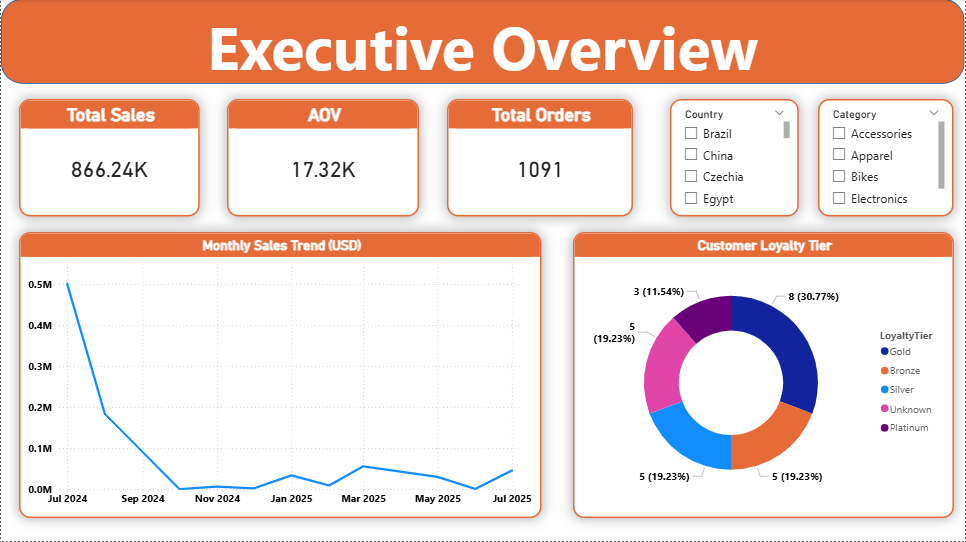

What the dashboard file says about the page in this screenshot:
{"tool":"powerbi","page":{"name":"DB1: Executive Overview","canvas":[1280,720],"ordinal":0},"visuals":[{"type":"card","title":"Total Sales","fields":{"Values":["Sum(FactSales.LineAmount_USD)"]},"box":[23.5,132.7,240.2,156.2],"z":0},{"type":"card","title":"AOV","fields":{"Values":["Measures Table.AOV"]},"box":[300.7,132.7,255.3,156.2],"z":1000},{"type":"card","title":"Total Orders","fields":{"Values":["CountNonNull(FactSales.OrderID)"]},"box":[593,132.7,246.9,156.2],"z":2000},{"type":"lineChart","title":"Monthly Sales Trend (USD)","fields":{"Category":["Calendar_Table.Date.Variation.Date Hierarchy.Year","Calendar_Table.Date.Variation.Date Hierarchy.Month"],"Y":["Sum(FactSales.LineAmount_USD)"]},"box":[23.5,309.1,693.8,379.6],"z":3000},{"type":"donutChart","title":"Customer Loyalty Tier","fields":{"Category":["DimCustomer.LoyaltyTier"],"Y":["CountNonNull(DimCustomer.CustomerID)"]},"box":[759.3,309.1,505.6,379.6],"z":4000},{"type":"slicer","fields":{"Values":["DimCustomer.Country"]},"box":[888.6,132.7,171.3,156.2],"z":5000},{"type":"slicer","fields":{"Values":["DimProduct.Category"]},"box":[1085,133,180,156],"z":6000},{"type":"shape","box":[0,0,1280,112.5],"z":7000}]}

Visuals, with their boxes in screenshot pixels (x1, y1, x2, y2), scaled from the page's 1280x720 canvas onto the 966x542 screenshot:
"Total Sales" card: [x1=18, y1=100, x2=199, y2=217]
"AOV" card: [x1=227, y1=100, x2=420, y2=217]
"Total Orders" card: [x1=448, y1=100, x2=634, y2=217]
"Monthly Sales Trend (USD)" lineChart: [x1=18, y1=233, x2=541, y2=518]
"Customer Loyalty Tier" donutChart: [x1=573, y1=233, x2=955, y2=518]
slicer - DimCustomer.Country: [x1=671, y1=100, x2=800, y2=217]
slicer - DimProduct.Category: [x1=819, y1=100, x2=955, y2=218]
shape: [x1=0, y1=0, x2=965, y2=85]
